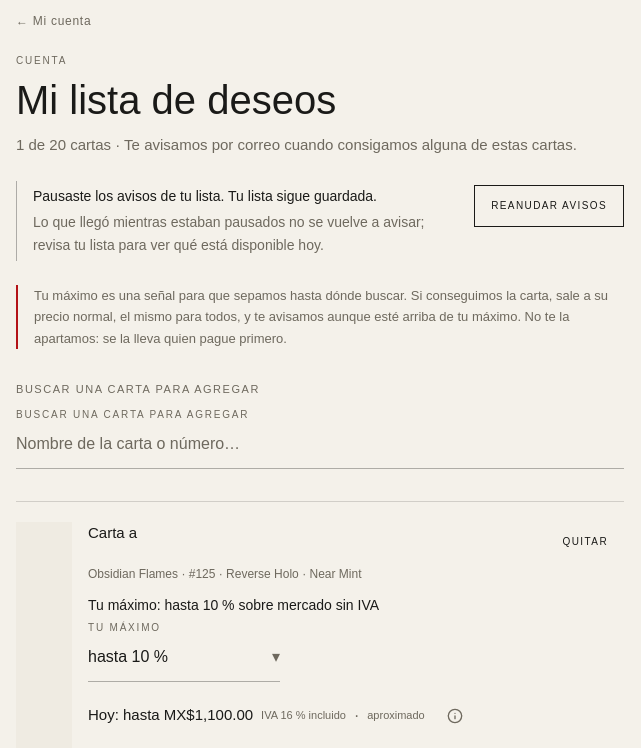
Test: §WSH-UX.3 · la página › pausados ⇒ banner con la segunda línea, y «Reanudar avisos» hace `PUT {paused:false}`
The image size is (641, 748).
Expected: the text "Pausaste los avisos de tu lista. Tu lista sigue guardada." is shown, x1=33 y1=188 x2=377 y2=204
Expected: the text "Lo que llegó mientras estaban pausados no se vuelve a avisar; revisa tu lista para ver qué está disponible hoy." is shown, x1=33 y1=214 x2=424 y2=253
Click the button "Reanudar avisos". click: (549, 206)
box: x1=474 y1=184 x2=624 y2=227
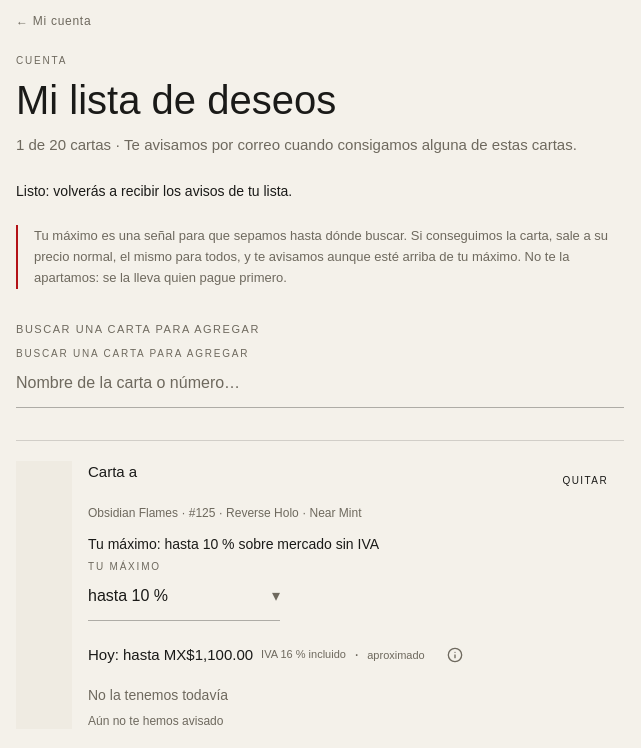
Expected: the text "Listo: volverás a recibir los avisos de tu lista." is shown, x1=16 y1=182 x2=292 y2=198
